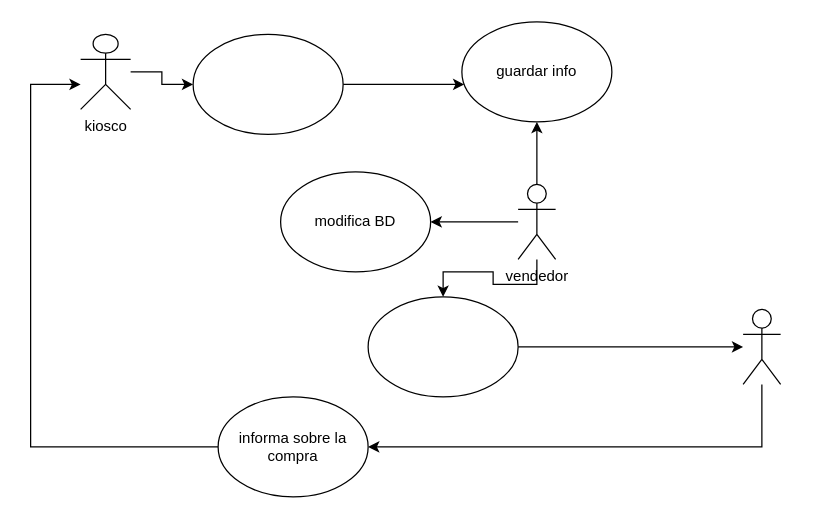
The diagram is 831 pixels wide and 519 high, and some of its shapes have lost their labels. The shapes that lost their labels are listed below. From the top down, each one's box as (x1, y1, x2, y2) in pixels, then its label:
(192, 33, 343, 134): compra producto
(367, 296, 518, 397): enviar pedido
(742, 308, 781, 384): administrador
